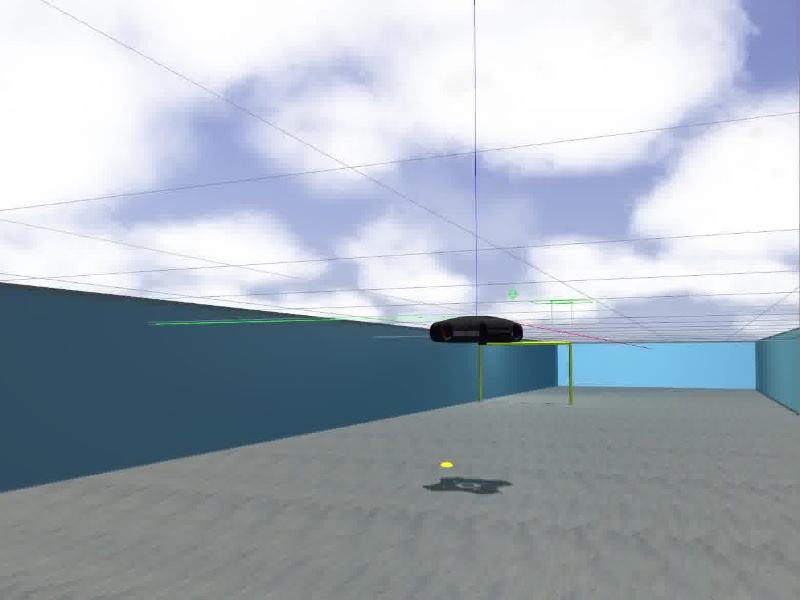gate: (478, 341, 573, 406)
